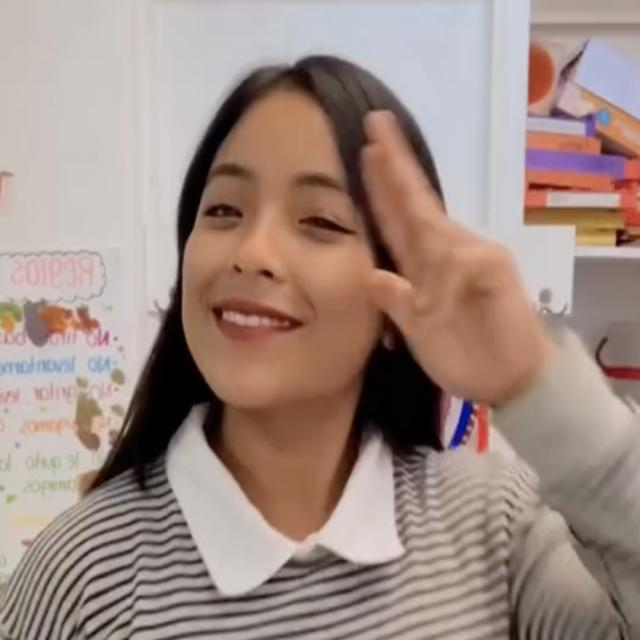hola: (358, 102, 548, 406)
